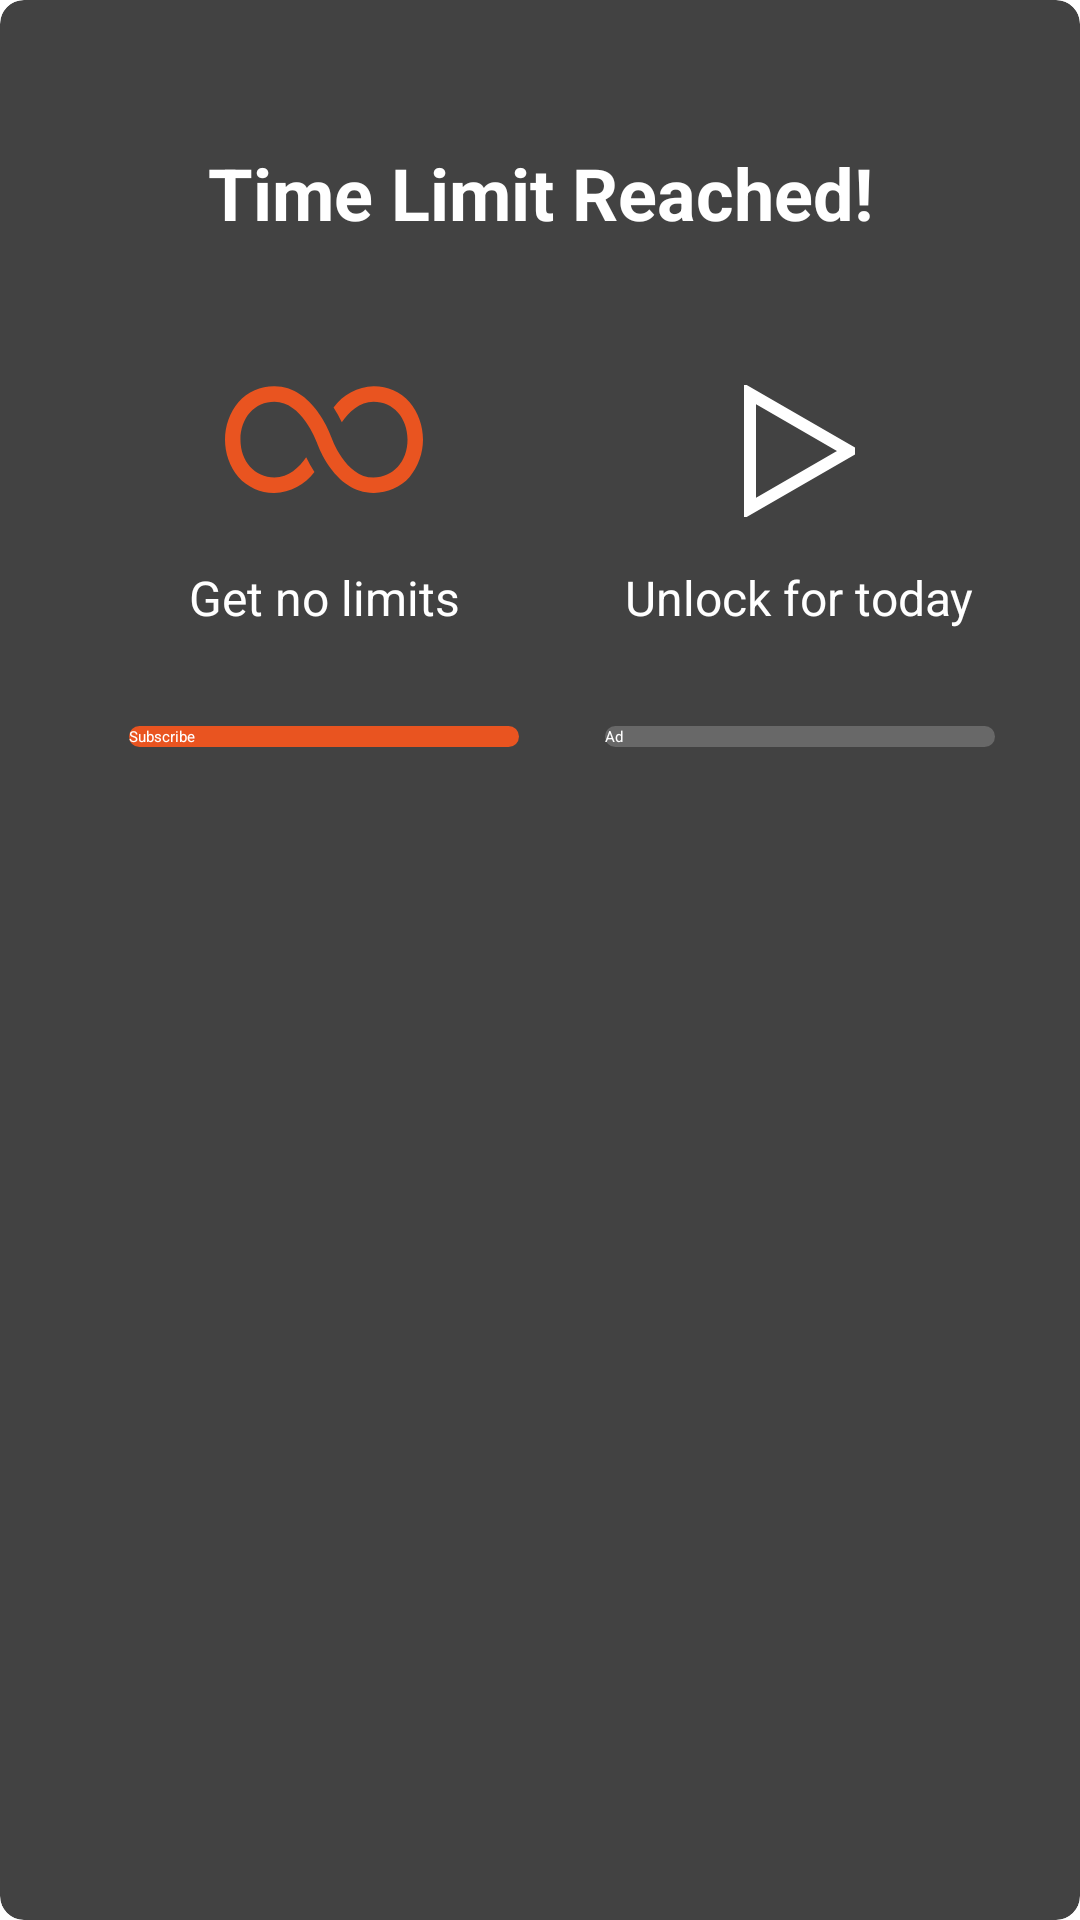

Where icons sit on this 1080px x 1920px app screen, as box(x1, y1, x2, y2):
infinity: box(225, 386, 423, 493)
